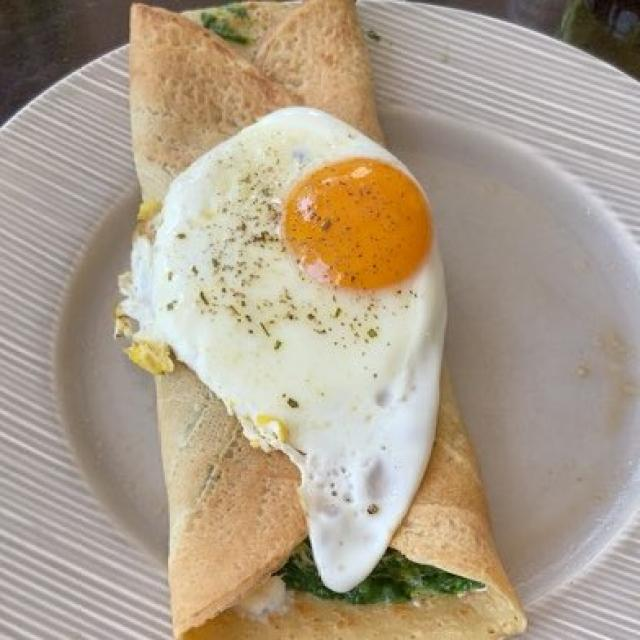buckwheat-pancake: (138, 1, 530, 631)
egg: (118, 102, 442, 586)
leaf-spinach: (286, 540, 473, 604)
